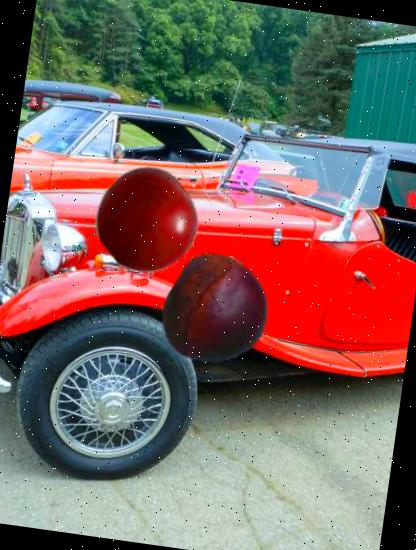Cherry: (88, 161, 207, 280)
Chestnut: (154, 250, 280, 376)
